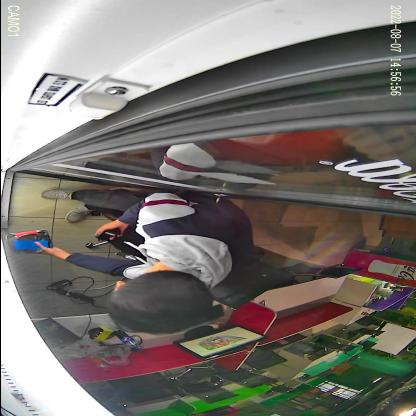blue: (13, 234, 48, 254)
red: (5, 230, 52, 248)
